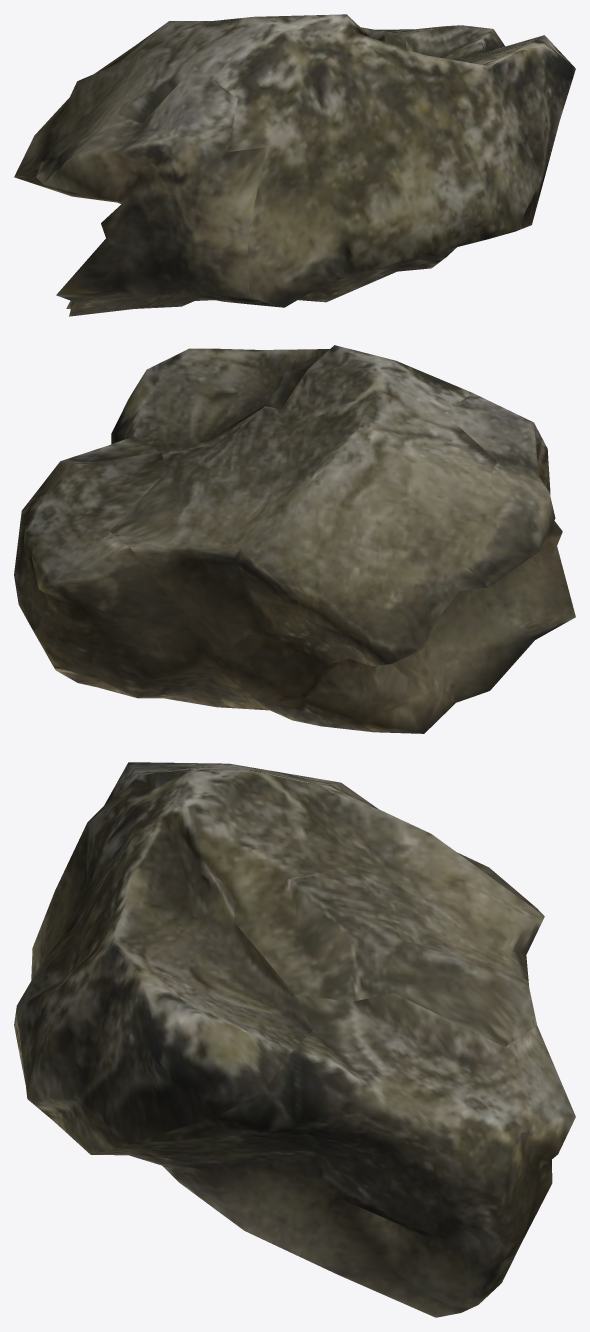
File: rock_03_lod2.glb
The picture shows the model from 3 angles, top to bottom: view 1: azimuth 30°, elevation 25°; view 2: azimuth 150°, elevation 25°; view 3: azimuth 270°, elevation 25°; orthographic projection. The views are drawn at different scales.
Parts seen in each view (by area): view 1: Rock_03_LOD2; view 2: Rock_03_LOD2; view 3: Rock_03_LOD2.
Part boxes in pixels (x1,y1,x2,y2): Rock_03_LOD2: [14, 14, 575, 316]; Rock_03_LOD2: [14, 345, 575, 733]; Rock_03_LOD2: [14, 762, 575, 1317].
Size of the model in its own units: 1.97 by 1.29 by 1.53.
Materials: 1 (1 with a texture image).
